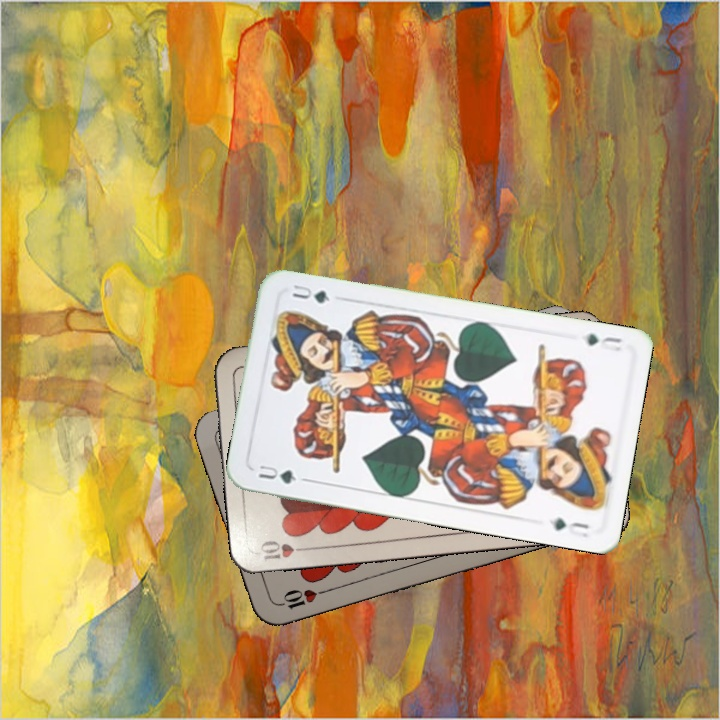GU: (254, 461, 299, 487), (582, 329, 624, 349)
H10: (255, 536, 314, 564), (272, 585, 330, 612)
